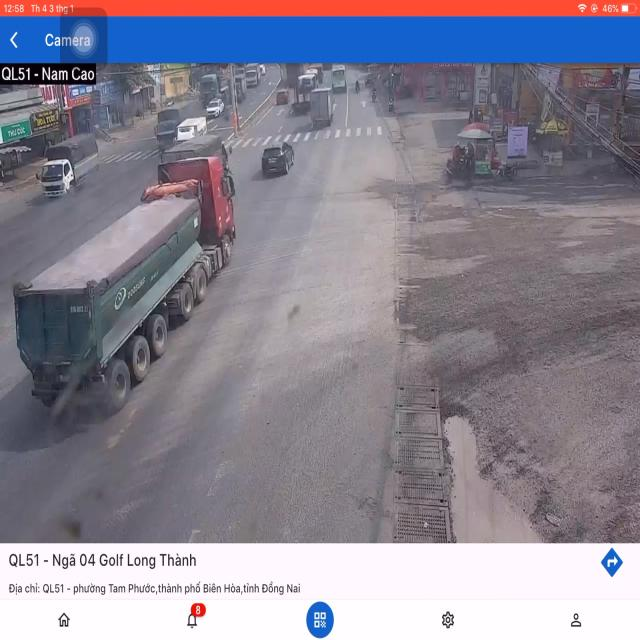car: (262, 134, 295, 181)
truck: (19, 158, 236, 403), (40, 133, 104, 199), (306, 89, 337, 130)
